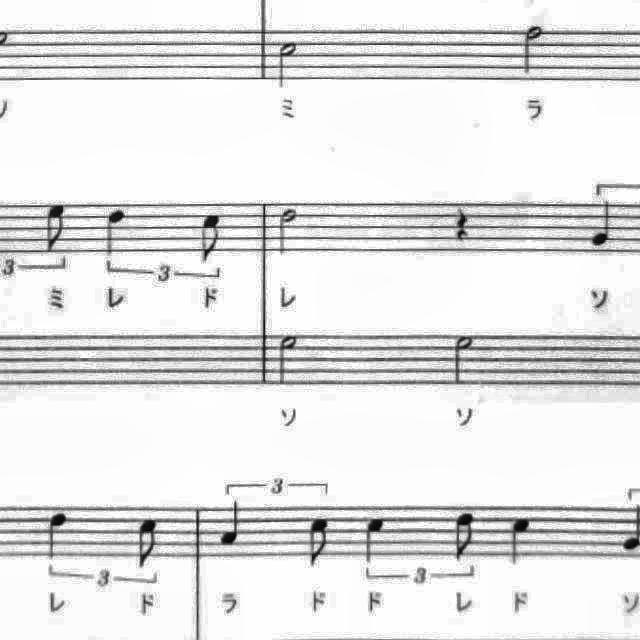Eighth-note: (302, 511, 338, 573), (130, 512, 166, 572), (38, 198, 74, 258), (194, 208, 230, 268), (448, 508, 484, 568)
Half-note: (445, 328, 483, 390), (514, 18, 550, 82), (270, 34, 306, 94), (272, 329, 306, 389), (272, 203, 304, 261)
Quarter-note: (504, 509, 540, 571), (41, 504, 77, 564), (96, 203, 132, 261), (584, 193, 620, 251), (358, 509, 390, 567), (215, 496, 248, 552)
Quarter-rest: (446, 198, 478, 248)
